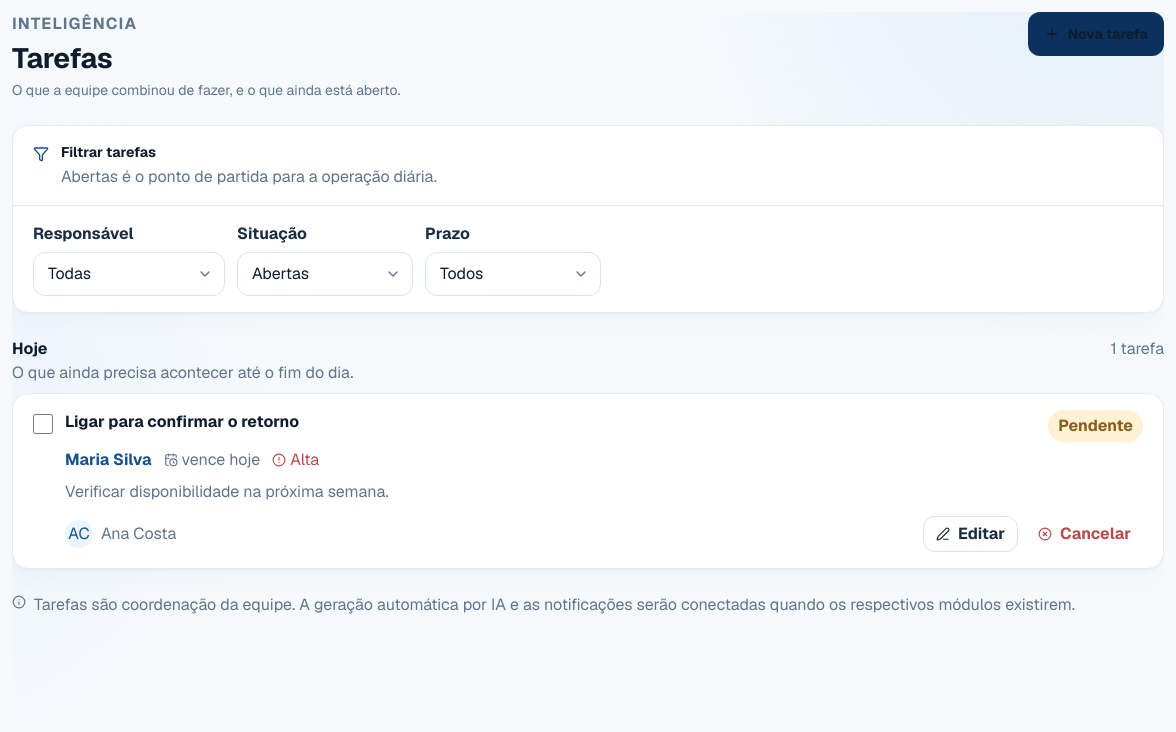
Test: filtros › vazio POR FILTRO é diferente de vazio por não haver tarefa
The image size is (1176, 732).
Select "Vencidas" in the dropdown labelled "Prazo" at [513, 274], box top-left (425, 252), bottom-right (601, 296)
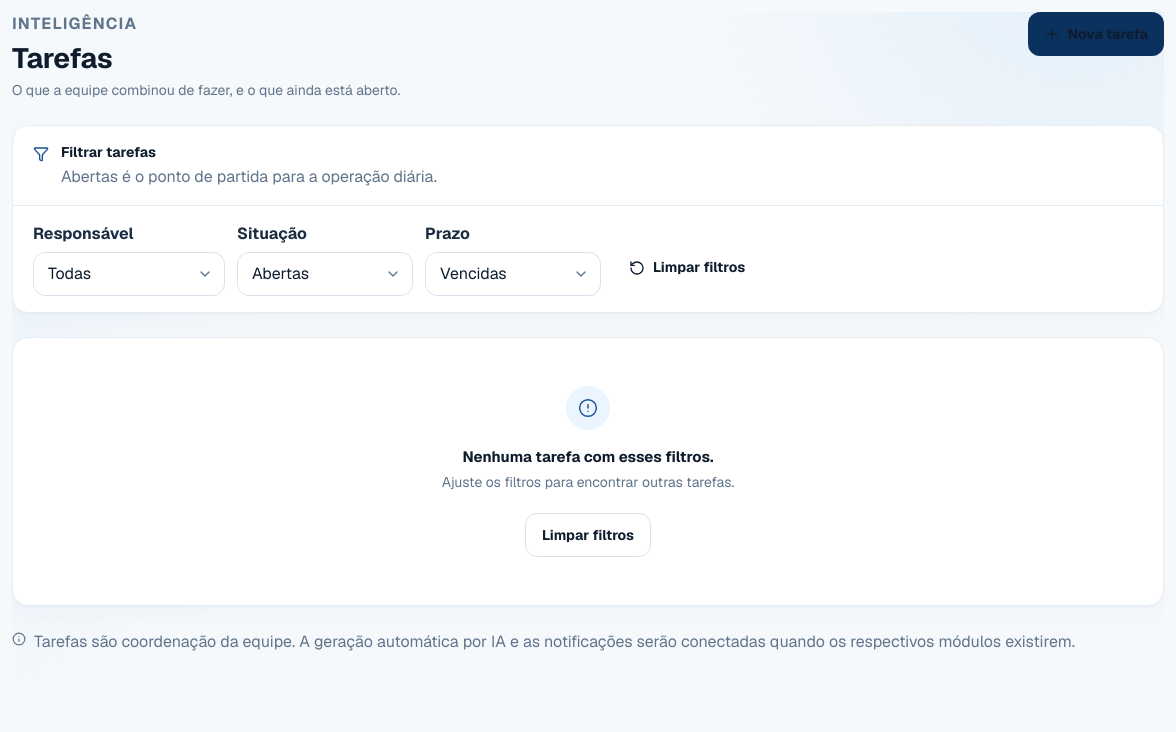
Now the text "Nenhuma tarefa com esses filtros." is shown, box top-left (462, 446), bottom-right (714, 468)
